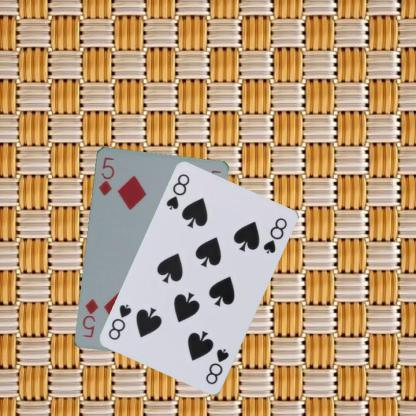5d: (96, 154, 115, 197)
8s: (203, 346, 230, 387), (164, 171, 191, 211)
